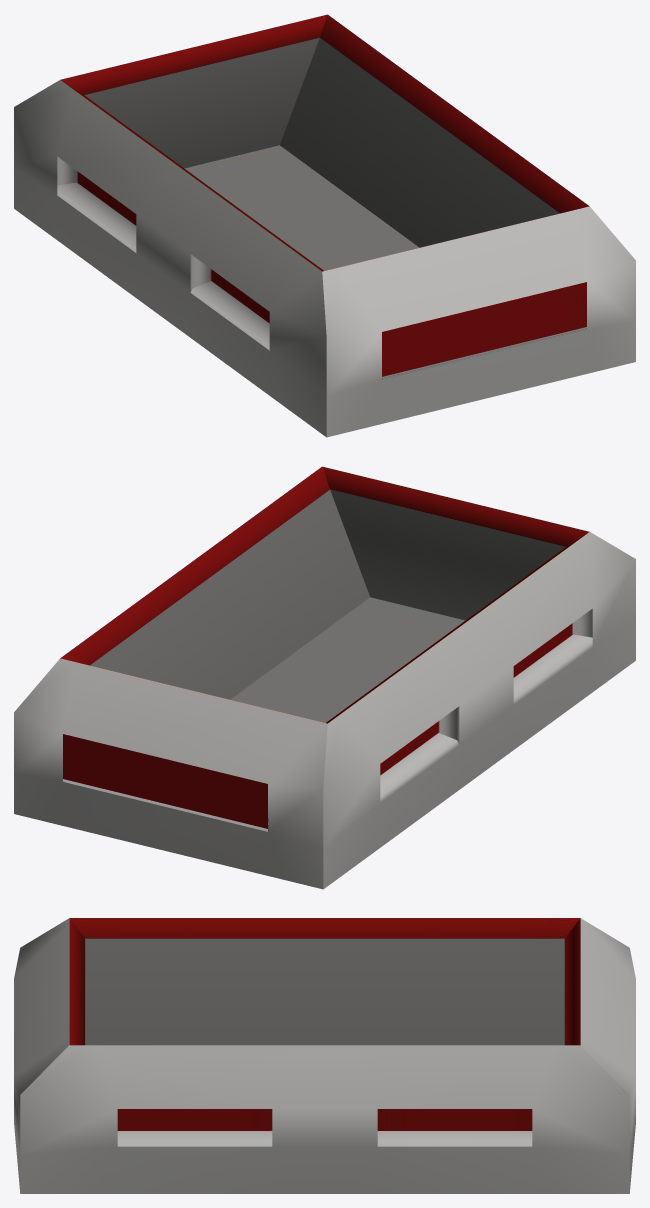
Rendered from LIXO.fbx.
The picture shows the model from 3 angles, top to bottom: view 1: azimuth 30°, elevation 25°; view 2: azimuth 150°, elevation 25°; view 3: azimuth 270°, elevation 25°; orthographic projection. The views are drawn at different scales.
Parts seen in each view (by area): view 1: pCube1; view 2: pCube1; view 3: pCube1.
Boxes of the visible parts, bbox=[...] form: pCube1: bbox=[14, 14, 635, 437]; pCube1: bbox=[14, 466, 635, 889]; pCube1: bbox=[14, 918, 635, 1193].
Bounding box in the file's own units: 4.15 × 1.75 × 7.1.
Materials: 1 (1 with a texture image).
